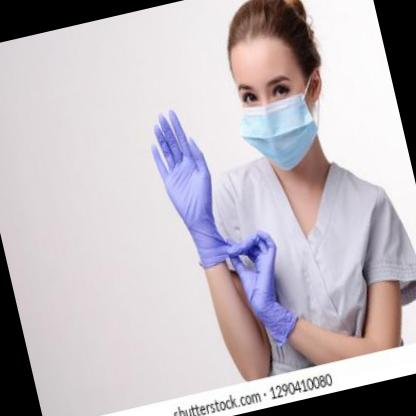Gloves: (142, 102, 233, 276), (224, 224, 304, 352)
